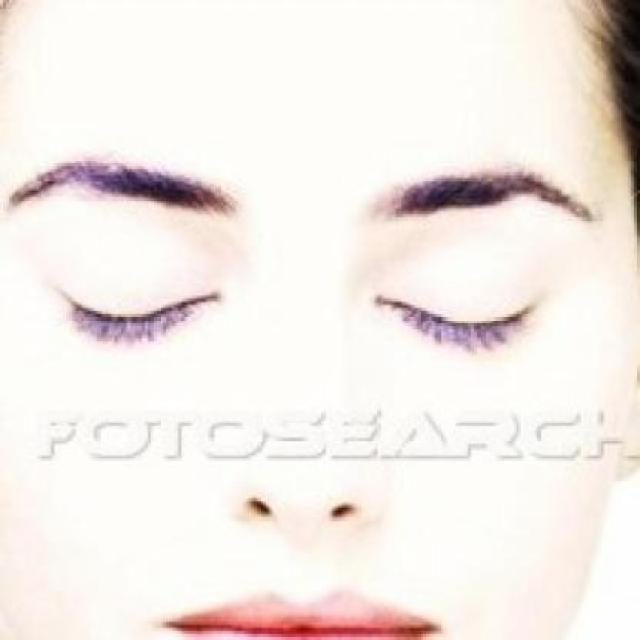drowsy: (380, 281, 532, 368), (62, 274, 218, 355)
